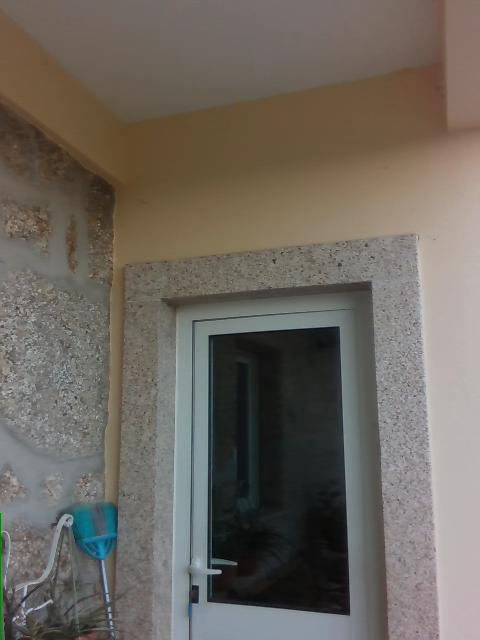door: (175, 286, 373, 635)
